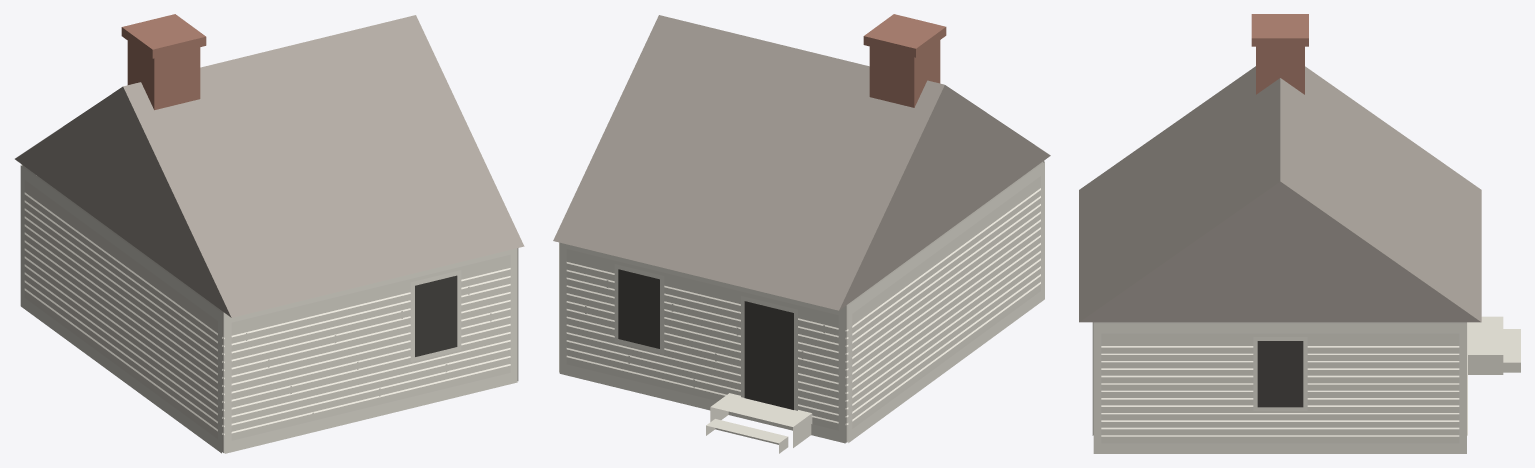
The model's file is recon_1835_blk_south_water_dearborn_d3_03__inferred_1835.glb.
3 views of the same model, side by side, from view 1: azimuth 30°, elevation 25°; view 2: azimuth 150°, elevation 25°; view 3: azimuth 270°, elevation 25° (orthographic). The views are drawn at different scales.
Parts seen in each view (by area): view 1: recon_1835_blk_south_water_dearborn_d3_03__inferred_1835; view 2: recon_1835_blk_south_water_dearborn_d3_03__inferred_1835; view 3: recon_1835_blk_south_water_dearborn_d3_03__inferred_1835.
Part boxes in pixels (bbox=[...]): recon_1835_blk_south_water_dearborn_d3_03__inferred_1835: bbox=[15, 14, 524, 453]; recon_1835_blk_south_water_dearborn_d3_03__inferred_1835: bbox=[553, 14, 1050, 453]; recon_1835_blk_south_water_dearborn_d3_03__inferred_1835: bbox=[1079, 14, 1520, 453].
Size of the model in its own units: 5.44 by 5.91 by 7.55.
